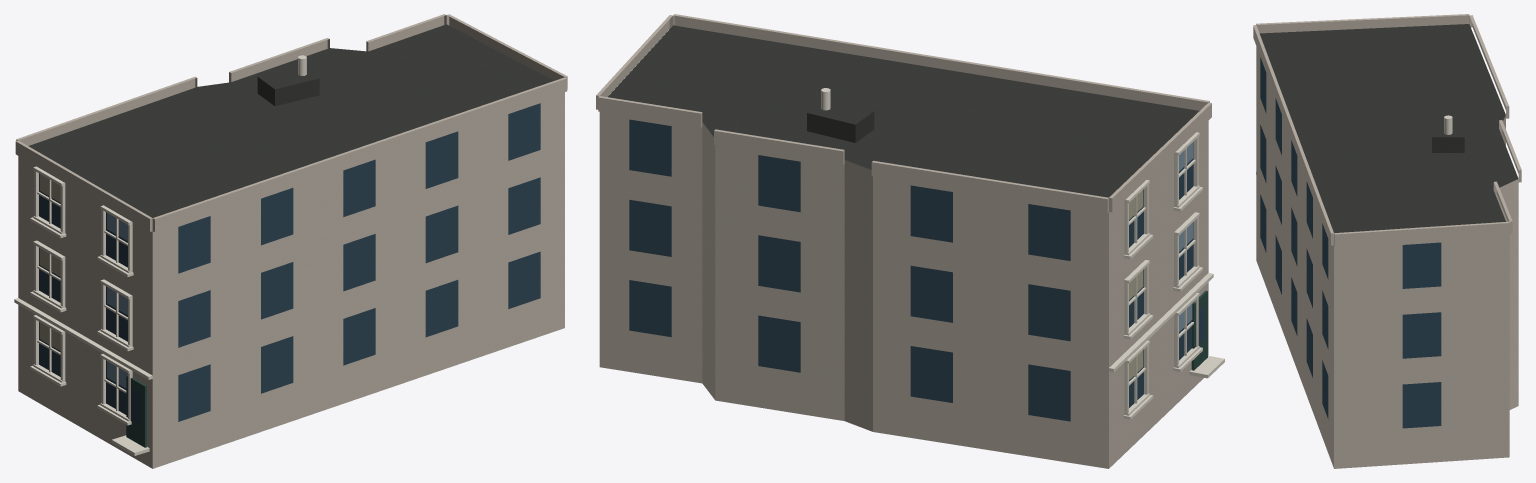
The picture shows the model from 3 angles, left to right: view 1: azimuth 30°, elevation 25°; view 2: azimuth 150°, elevation 25°; view 3: azimuth 270°, elevation 25°; orthographic projection. The views are drawn at different scales.
Visible parts, largest first — view 1: Footprint 0 / surface 2, Footprint 0 / surface 1, Inset glazing, Facade bay volumes, Cornices and window frames, Sky reflection panels, Interior blind variation, Storefronts and doors, Inferred rooftop service enclosure / surface 5, Inferred rooftop service enclosure / surface 3; view 2: Footprint 0 / surface 2, Footprint 0 / surface 1, Inset glazing, Facade bay volumes, Cornices and window frames, Inferred rooftop service enclosure / surface 6, Inferred rooftop service enclosure / surface 3, Storefronts and doors, Interior blind variation, Sky reflection panels; view 3: Footprint 0 / surface 2, Footprint 0 / surface 1, Inset glazing, Facade bay volumes, Inferred rooftop service enclosure / surface 3, Inferred rooftop service enclosure / surface 1.
Part boxes in pixels (x1=…): Footprint 0 / surface 2: x1=18, y1=92, x2=564, y2=468; Footprint 0 / surface 1: x1=28, y1=24, x2=553, y2=217; Inset glazing: x1=39, y1=103, x2=540, y2=425; Facade bay volumes: x1=15, y1=14, x2=567, y2=232; Cornices and window frames: x1=14, y1=166, x2=152, y2=455; Sky reflection panels: x1=39, y1=174, x2=127, y2=388; Interior blind variation: x1=40, y1=174, x2=60, y2=350; Storefronts and doors: x1=126, y1=375, x2=146, y2=447; Inferred rooftop service enclosure / surface 5: x1=275, y1=78, x2=319, y2=106; Inferred rooftop service enclosure / surface 3: x1=258, y1=67, x2=319, y2=89; Footprint 0 / surface 2: x1=599, y1=112, x2=1208, y2=468; Footprint 0 / surface 1: x1=608, y1=25, x2=1199, y2=197; Inset glazing: x1=629, y1=119, x2=1205, y2=421; Facade bay volumes: x1=596, y1=14, x2=1211, y2=213; Cornices and window frames: x1=1109, y1=132, x2=1224, y2=419; Inferred rooftop service enclosure / surface 6: x1=807, y1=113, x2=855, y2=142; Inferred rooftop service enclosure / surface 3: x1=807, y1=100, x2=873, y2=124; Storefronts and doors: x1=1191, y1=290, x2=1207, y2=370; Interior blind variation: x1=1129, y1=190, x2=1143, y2=379; Sky reflection panels: x1=1179, y1=142, x2=1193, y2=331; Footprint 0 / surface 2: x1=1256, y1=46, x2=1518, y2=468; Footprint 0 / surface 1: x1=1259, y1=24, x2=1518, y2=232; Inset glazing: x1=1260, y1=57, x2=1441, y2=428; Facade bay volumes: x1=1253, y1=14, x2=1521, y2=246; Inferred rooftop service enclosure / surface 3: x1=1432, y1=116, x2=1464, y2=137; Inferred rooftop service enclosure / surface 1: x1=1432, y1=137, x2=1464, y2=152.
Bounding box in the file's own units: 19.34 × 10.56 × 9.92.
